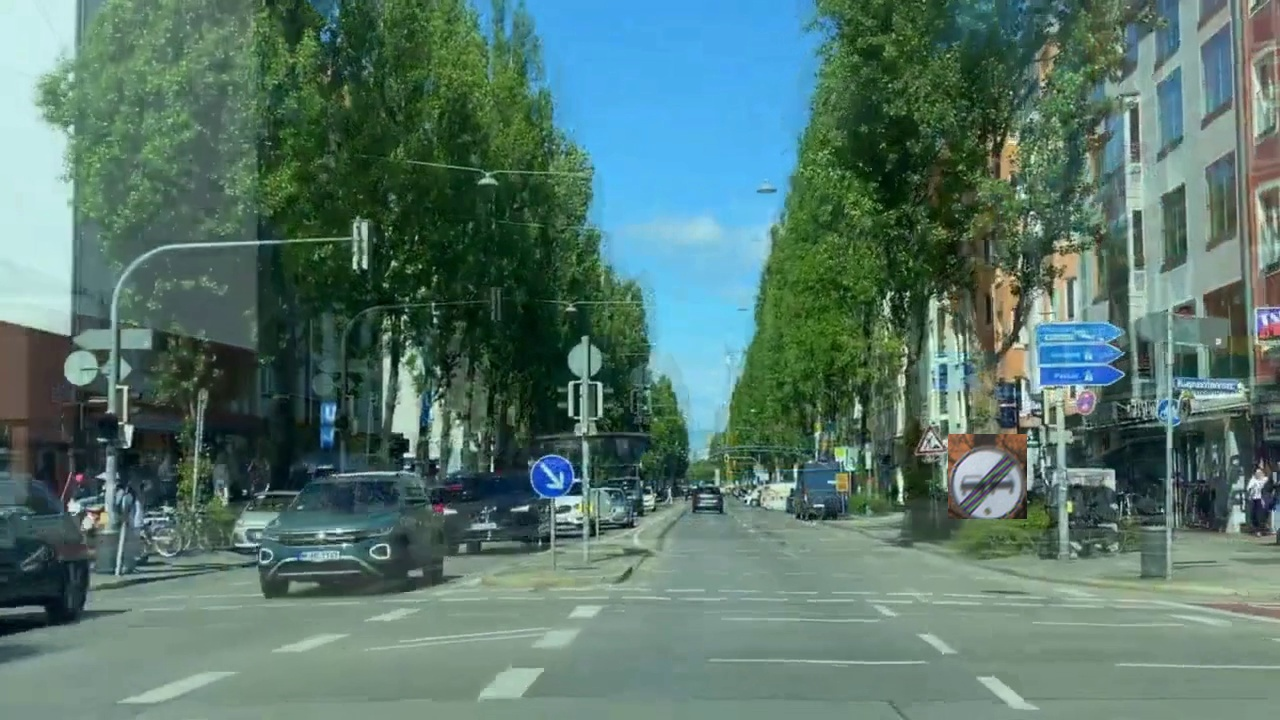End no pass: (948, 434, 1027, 519)
